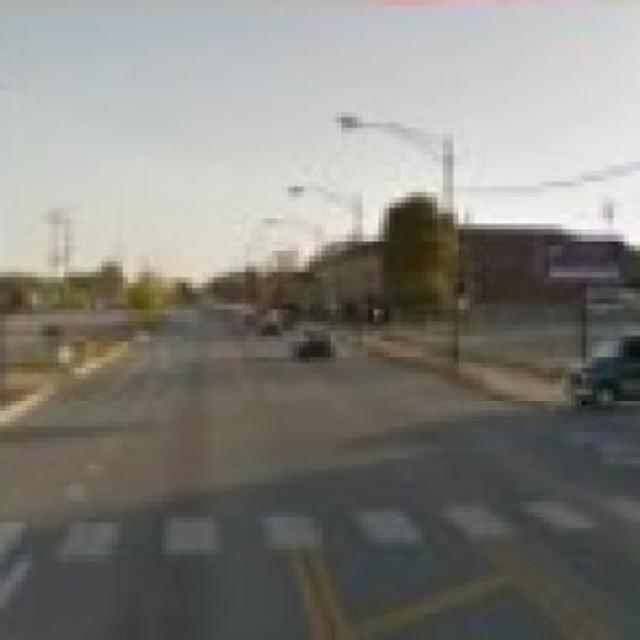crosswalk: (2, 492, 638, 559)
